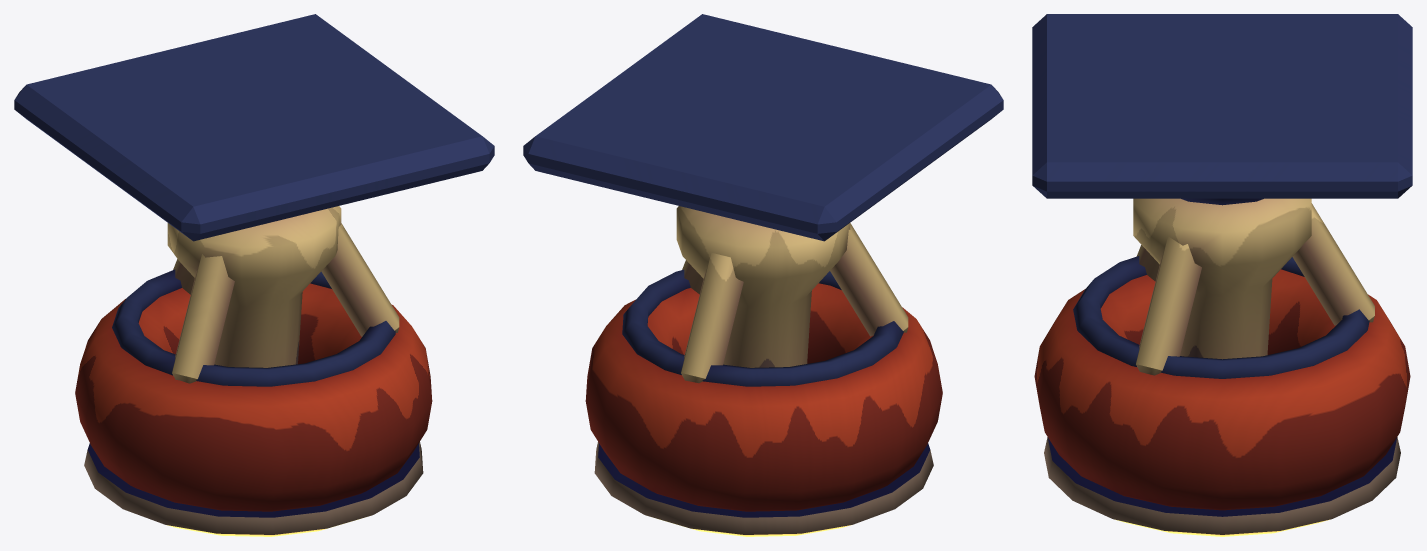
The model's file is R4M_HoverEngine_LOD1.glb.
3 renders of one model, left to right at view 1: azimuth 30°, elevation 25°; view 2: azimuth 150°, elevation 25°; view 3: azimuth 270°, elevation 25°, orthographic. The views are drawn at different scales.
Visible parts, largest first — view 1: R4M_HoverEngine_LOD1; view 2: R4M_HoverEngine_LOD1; view 3: R4M_HoverEngine_LOD1.
Boxes of the visible parts, left/top/right/bottom form: R4M_HoverEngine_LOD1: left=14, top=14, right=494, bottom=536; R4M_HoverEngine_LOD1: left=523, top=14, right=1003, bottom=536; R4M_HoverEngine_LOD1: left=1032, top=14, right=1412, bottom=536.
Bounding box in the file's own units: 0.52 × 0.577 × 0.52.
Materials: 4 (3 with a texture image).
